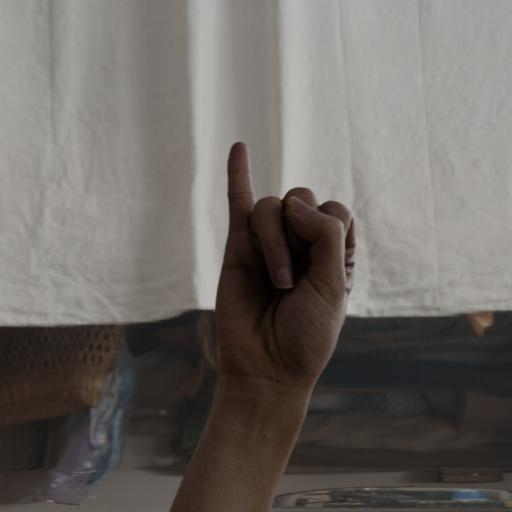I: (169, 118, 371, 404)
